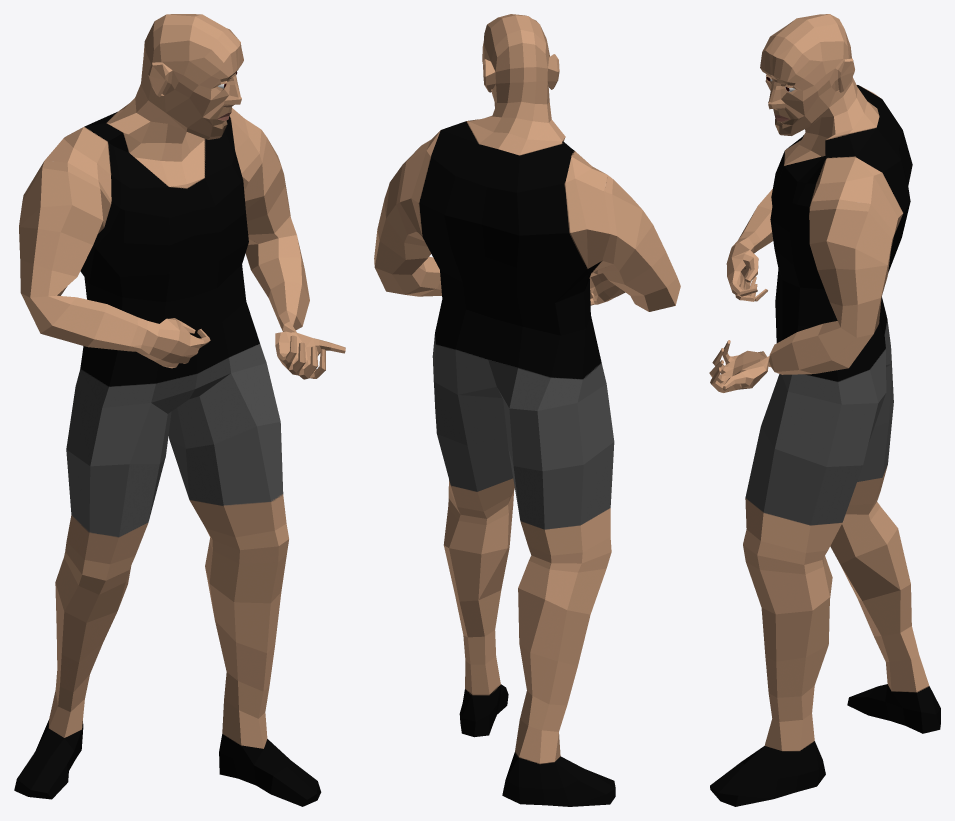
The model's file is PlayerIdle(163).obj.
The picture shows the model from 3 angles, left to right: view 1: azimuth 30°, elevation 25°; view 2: azimuth 150°, elevation 25°; view 3: azimuth 270°, elevation 25°; orthographic projection. The views are drawn at different scales.
Parts seen in each view (by area): view 1: Plane002; view 2: Plane002; view 3: Plane002.
Part boxes in pixels (x1,y1,x2,y2): Plane002: [14, 14, 345, 806]; Plane002: [374, 14, 680, 806]; Plane002: [709, 14, 940, 806].
Bounding box in the file's own units: 712 × 1794 × 506.
